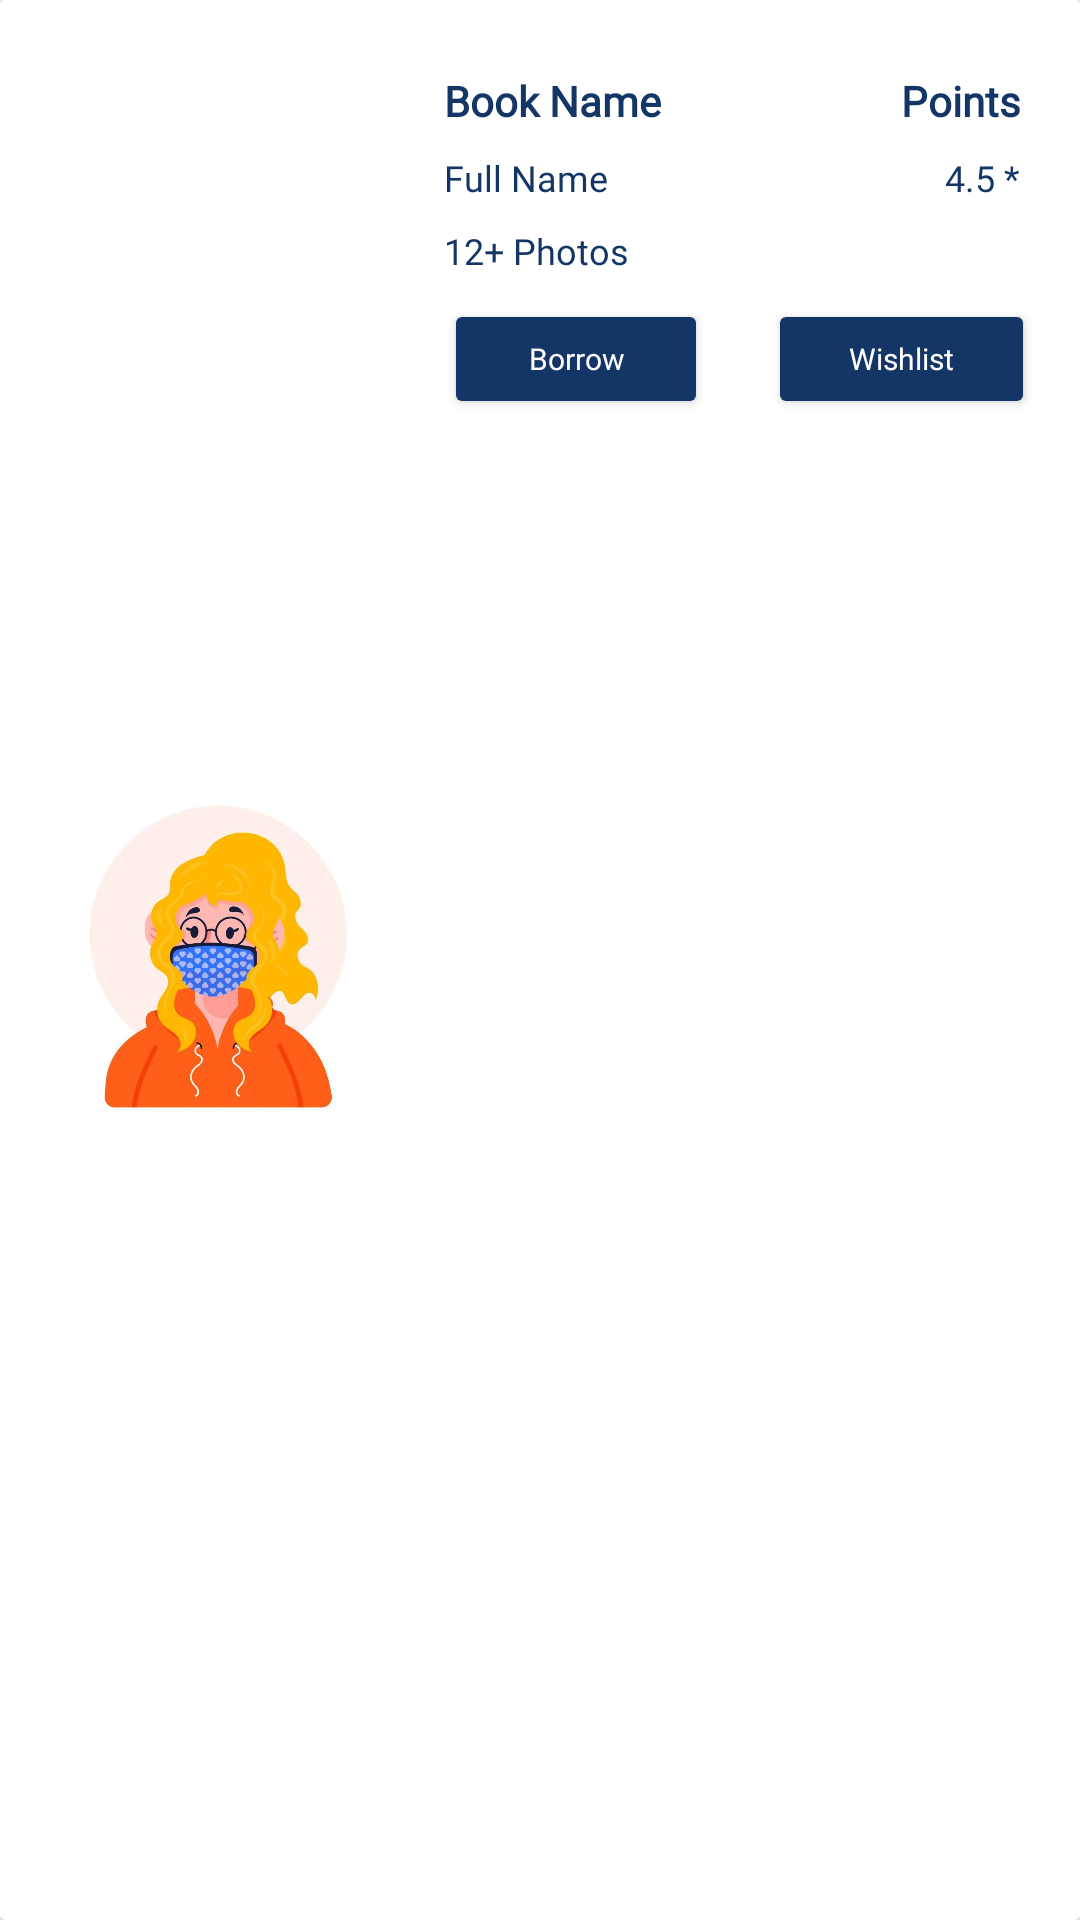

Icon bounding boxes for this 1080x1920 phone screenshot, format BBox(x1, y1, x2, y2):
profile: BBox(101, 821, 332, 1108)
